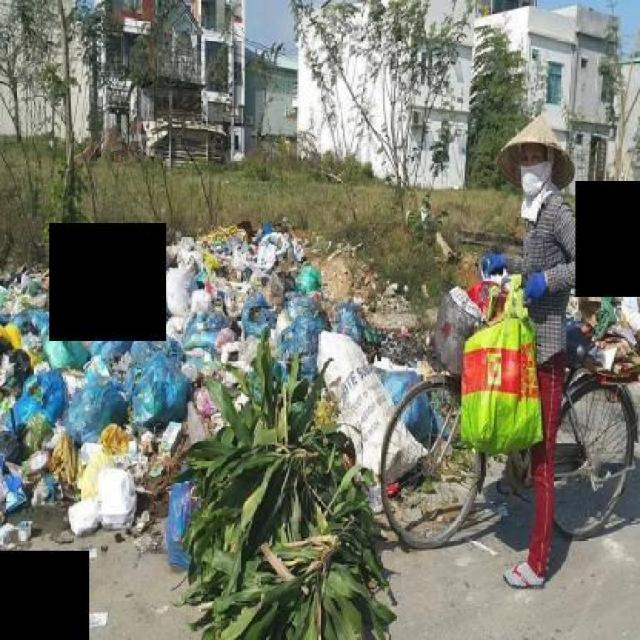plastic bag: (0, 195, 458, 607), (452, 296, 545, 464), (128, 336, 186, 432)
